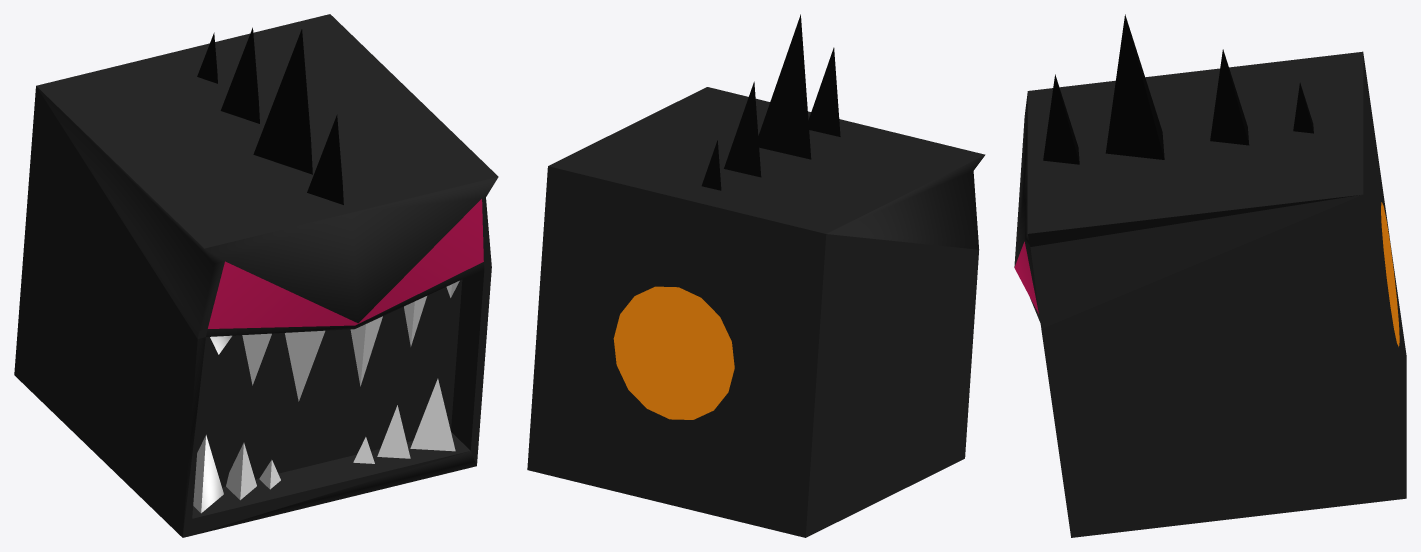
File: MANAFEVER.glb
3 renders of one model, left to right at view 1: azimuth 30°, elevation 25°; view 2: azimuth 150°, elevation 25°; view 3: azimuth 270°, elevation 25°, orthographic. The views are drawn at different scales.
Parts seen in each view (by area): view 1: ManaFever; view 2: ManaFever; view 3: ManaFever.
Boxes of the visible parts, x1,y1,x2,y2 form: ManaFever: [14, 14, 498, 537]; ManaFever: [527, 14, 985, 537]; ManaFever: [1014, 14, 1406, 537].
Size of what is drawn, in the model's own units: 1.47 by 2.16 by 1.7.
Materials: 2 (2 with a texture image).
